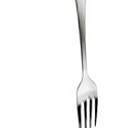Fork: (61, 1, 104, 128)
